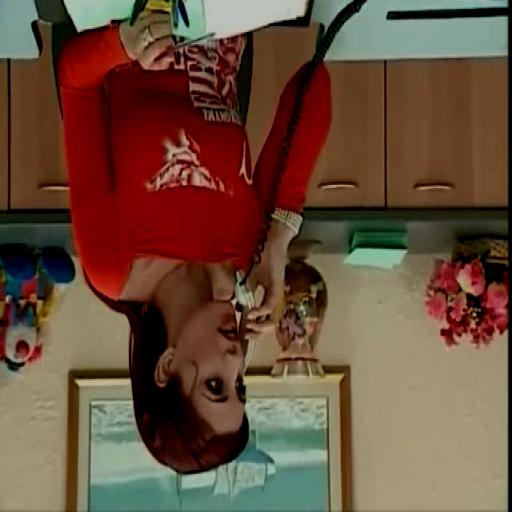Dalanda: (155, 306, 245, 436)
